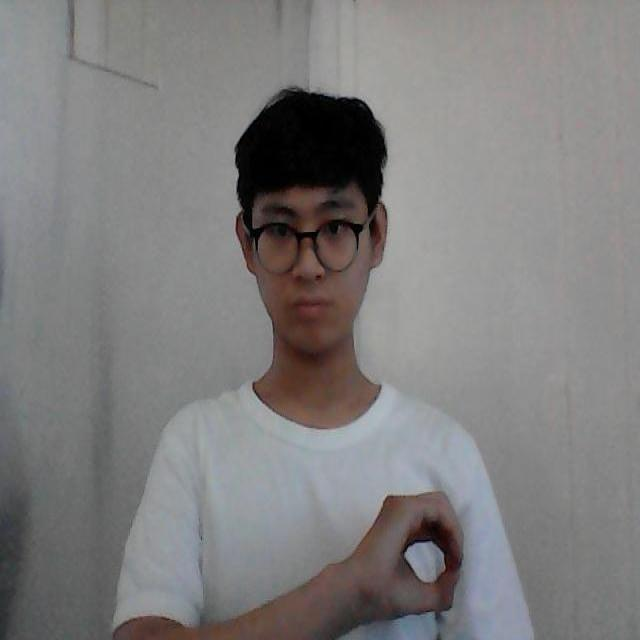O: (362, 490, 486, 620)
